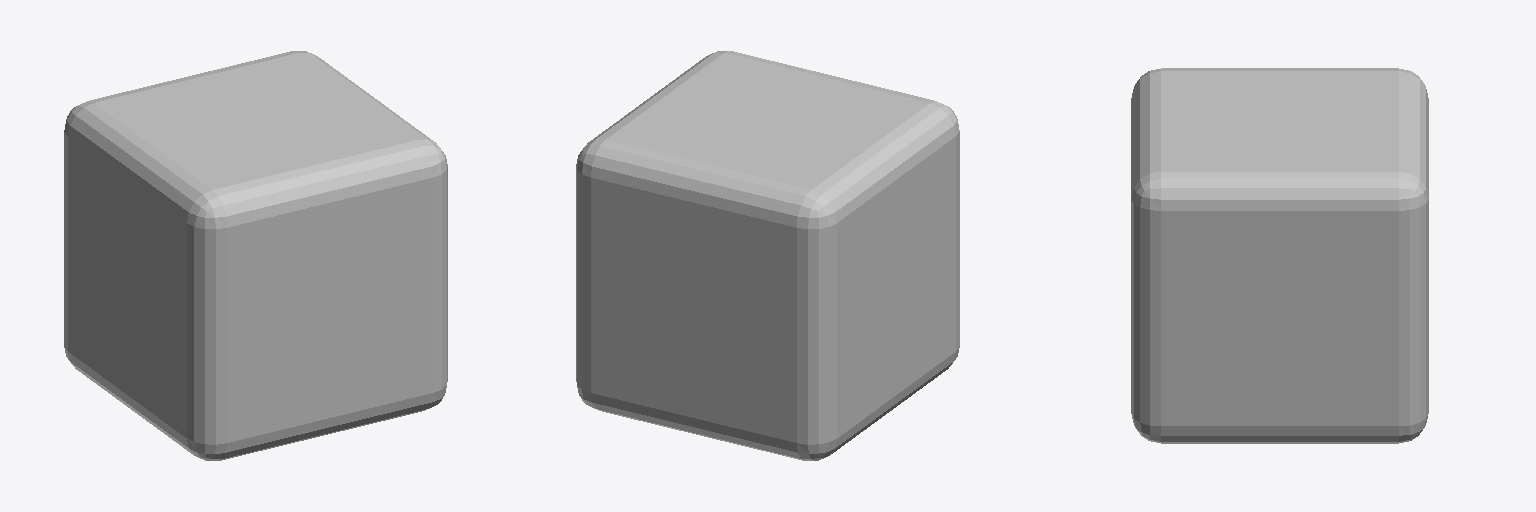
The model's file is dice-empty.obj.
3 views of the same model, side by side, from view 1: azimuth 30°, elevation 25°; view 2: azimuth 150°, elevation 25°; view 3: azimuth 270°, elevation 25° (orthographic).
Parts seen in each view (by area): view 1: Cube; view 2: Cube; view 3: Cube.
Boxes of the visible parts, box(x1,y1,x2,y2) form: Cube: box(64, 51, 447, 460); Cube: box(576, 51, 959, 460); Cube: box(1131, 68, 1428, 443).
Bounding box in the file's own units: 2 × 2 × 2.